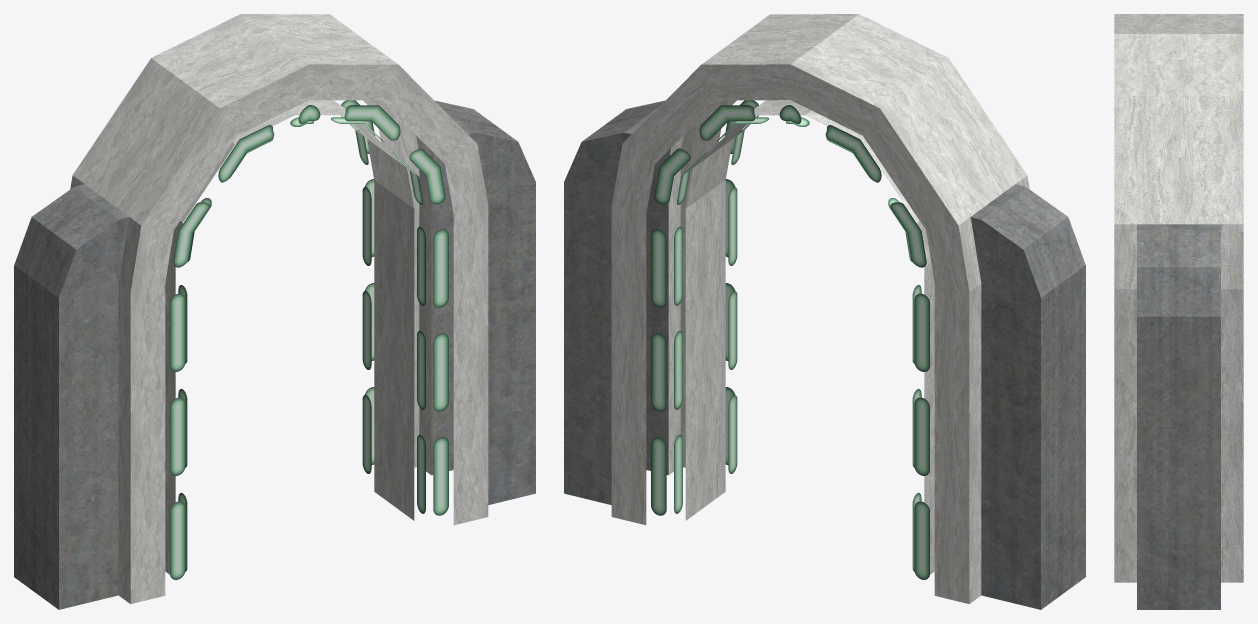
File: thm_corl_imprv_arch_sm_s01_l1.fbx
3 views of the same model, side by side, from view 1: azimuth 30°, elevation 25°; view 2: azimuth 150°, elevation 25°; view 3: azimuth 270°, elevation 25° (orthographic). The views are drawn at different scales.
Parts seen in each view (by area): view 1: mesh_node; view 2: mesh_node; view 3: mesh_node.
Part boxes in pixels (x1,y1,x2,y2): mesh_node: (14,14,535,609); mesh_node: (564,14,1085,609); mesh_node: (1114,14,1243,609).
Size of the model in its own units: 8 by 7.95 by 2.
